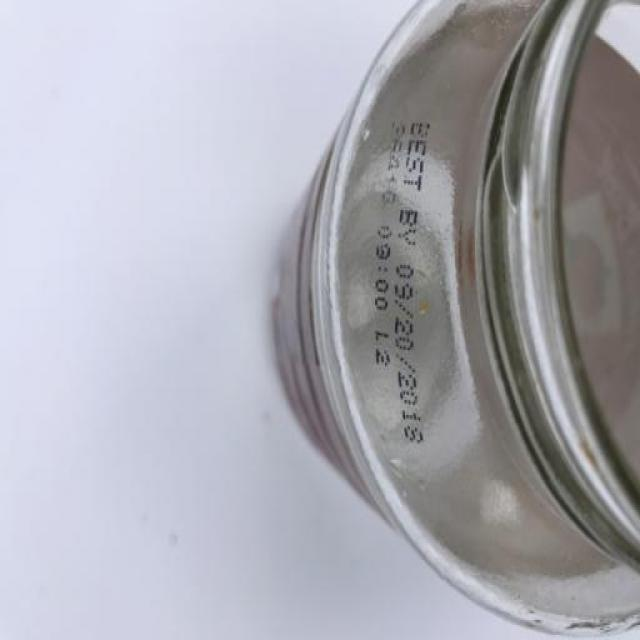BotolKaca: (269, 0, 639, 638)
